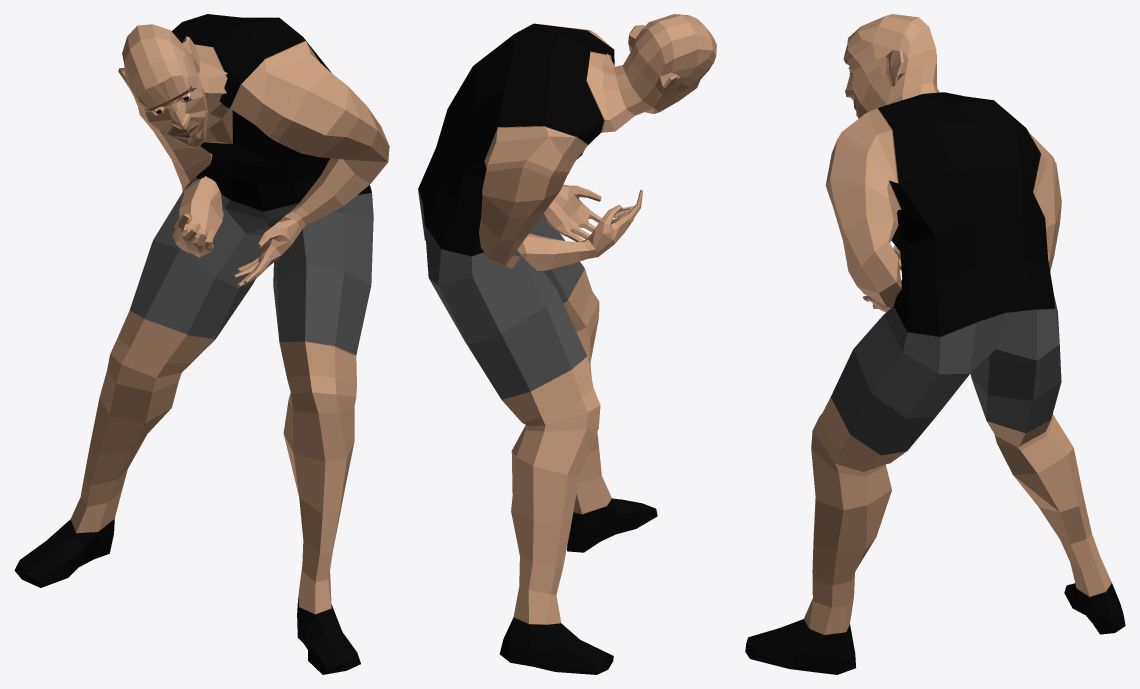
Rendered from PlayerDead(17).obj.
3 renders of one model, left to right at view 1: azimuth 30°, elevation 25°; view 2: azimuth 150°, elevation 25°; view 3: azimuth 270°, elevation 25°, orthographic. The views are drawn at different scales.
Visible parts, largest first — view 1: Plane002; view 2: Plane002; view 3: Plane002.
Part boxes in pixels (<box>): Plane002: <box>14,14,389,674</box>; Plane002: <box>418,14,716,674</box>; Plane002: <box>745,14,1125,674</box>.
Size of the model in its own units: 664 by 1457 by 850.
